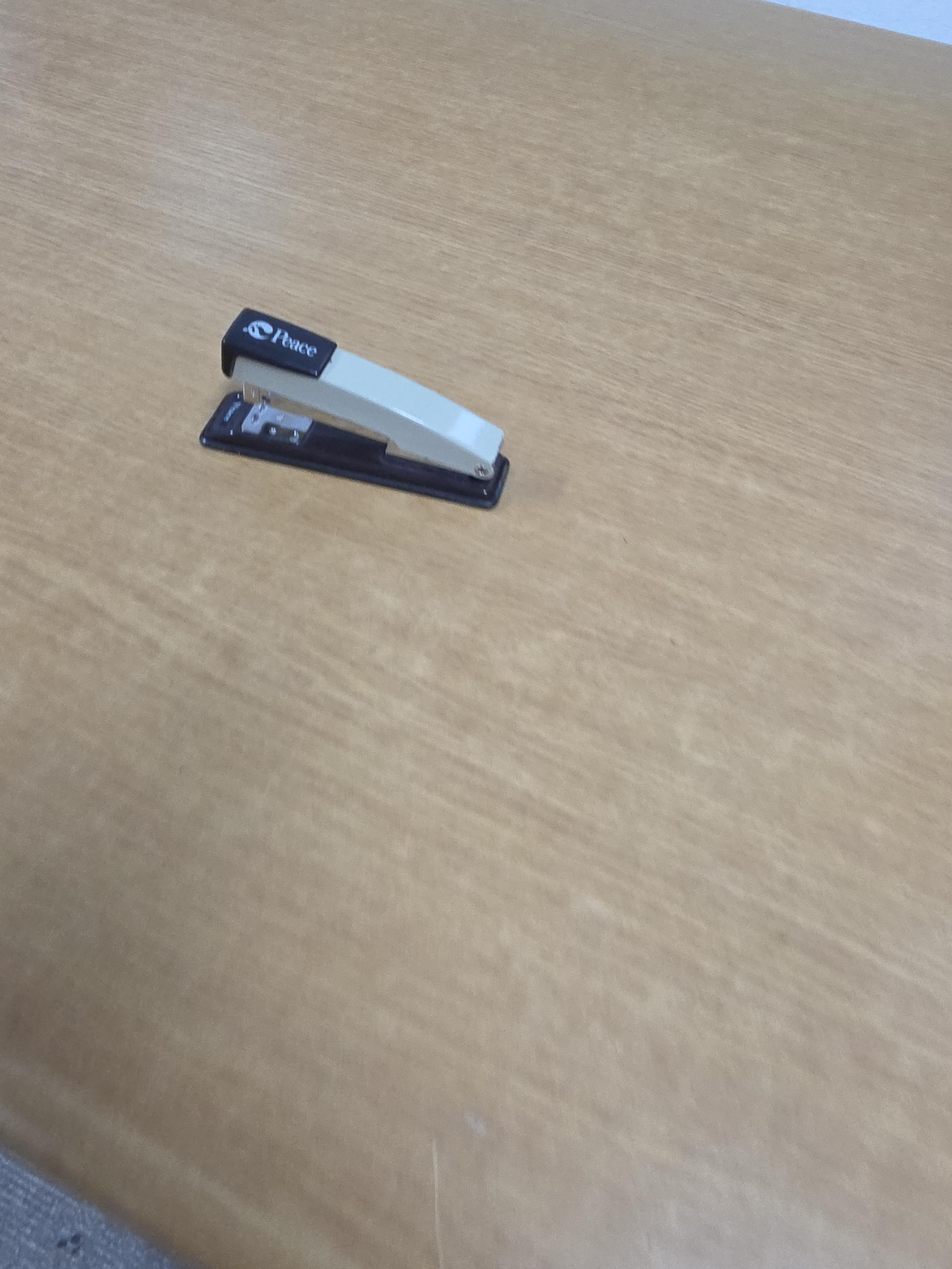stapler: (200, 307, 510, 511)
